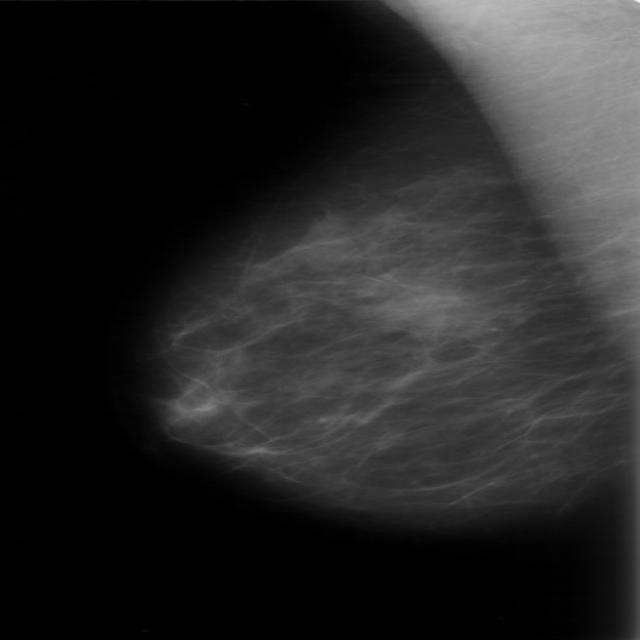tumour: (379, 282, 465, 320)
